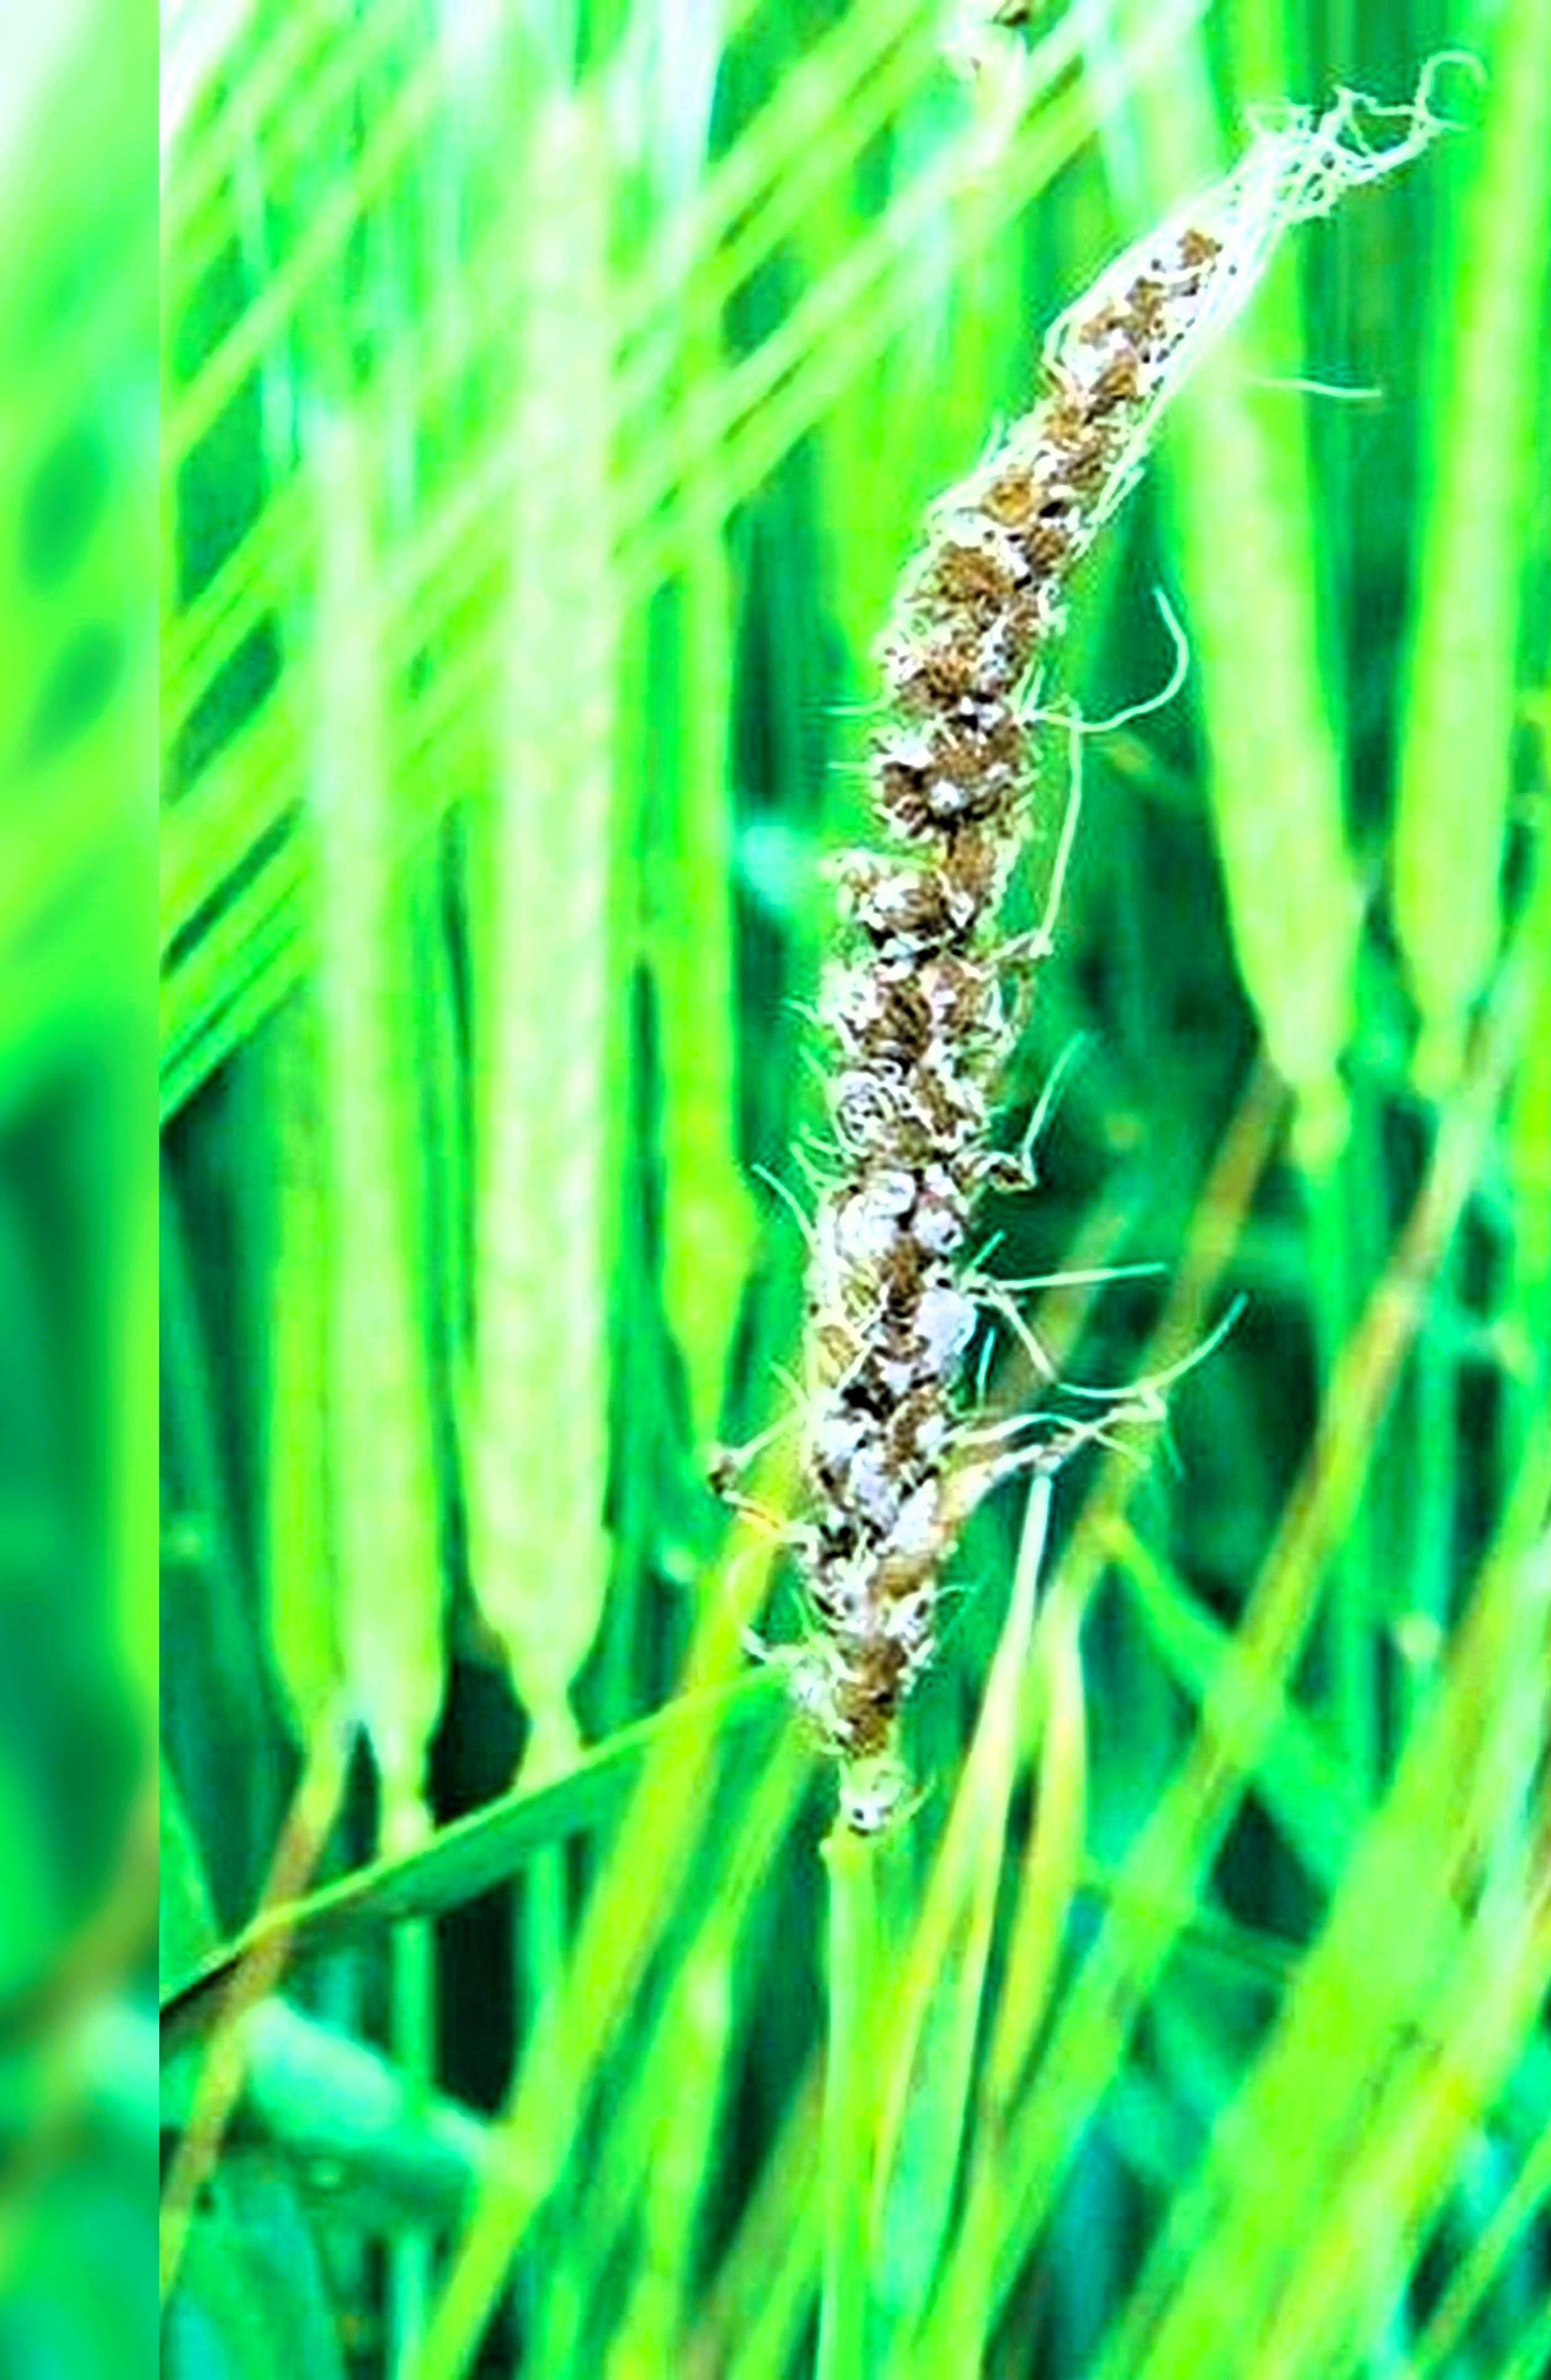Wheat Loose Smut: (758, 208, 1324, 1650)
